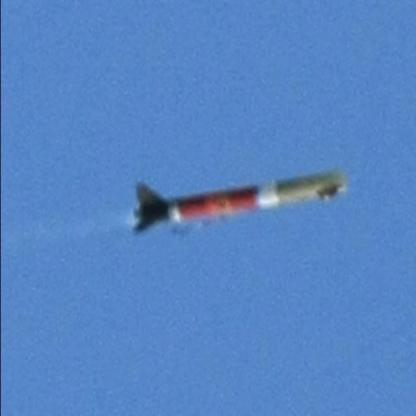MIL_TBM: (131, 168, 348, 235)
